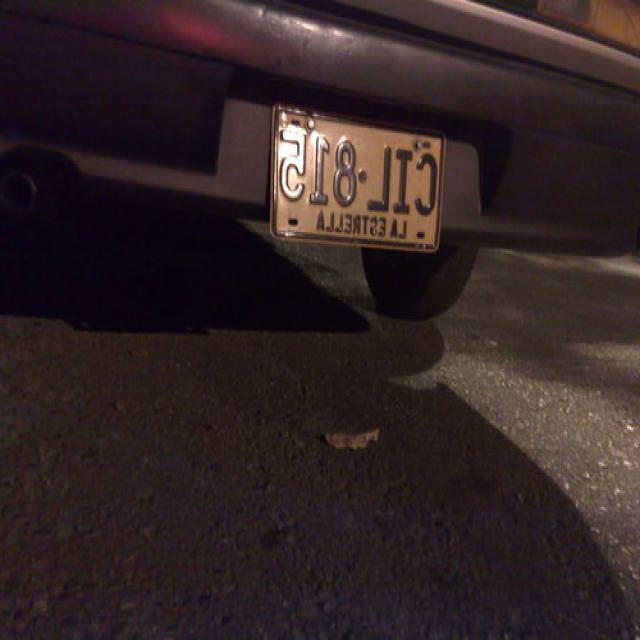placas: (278, 117, 442, 223)
